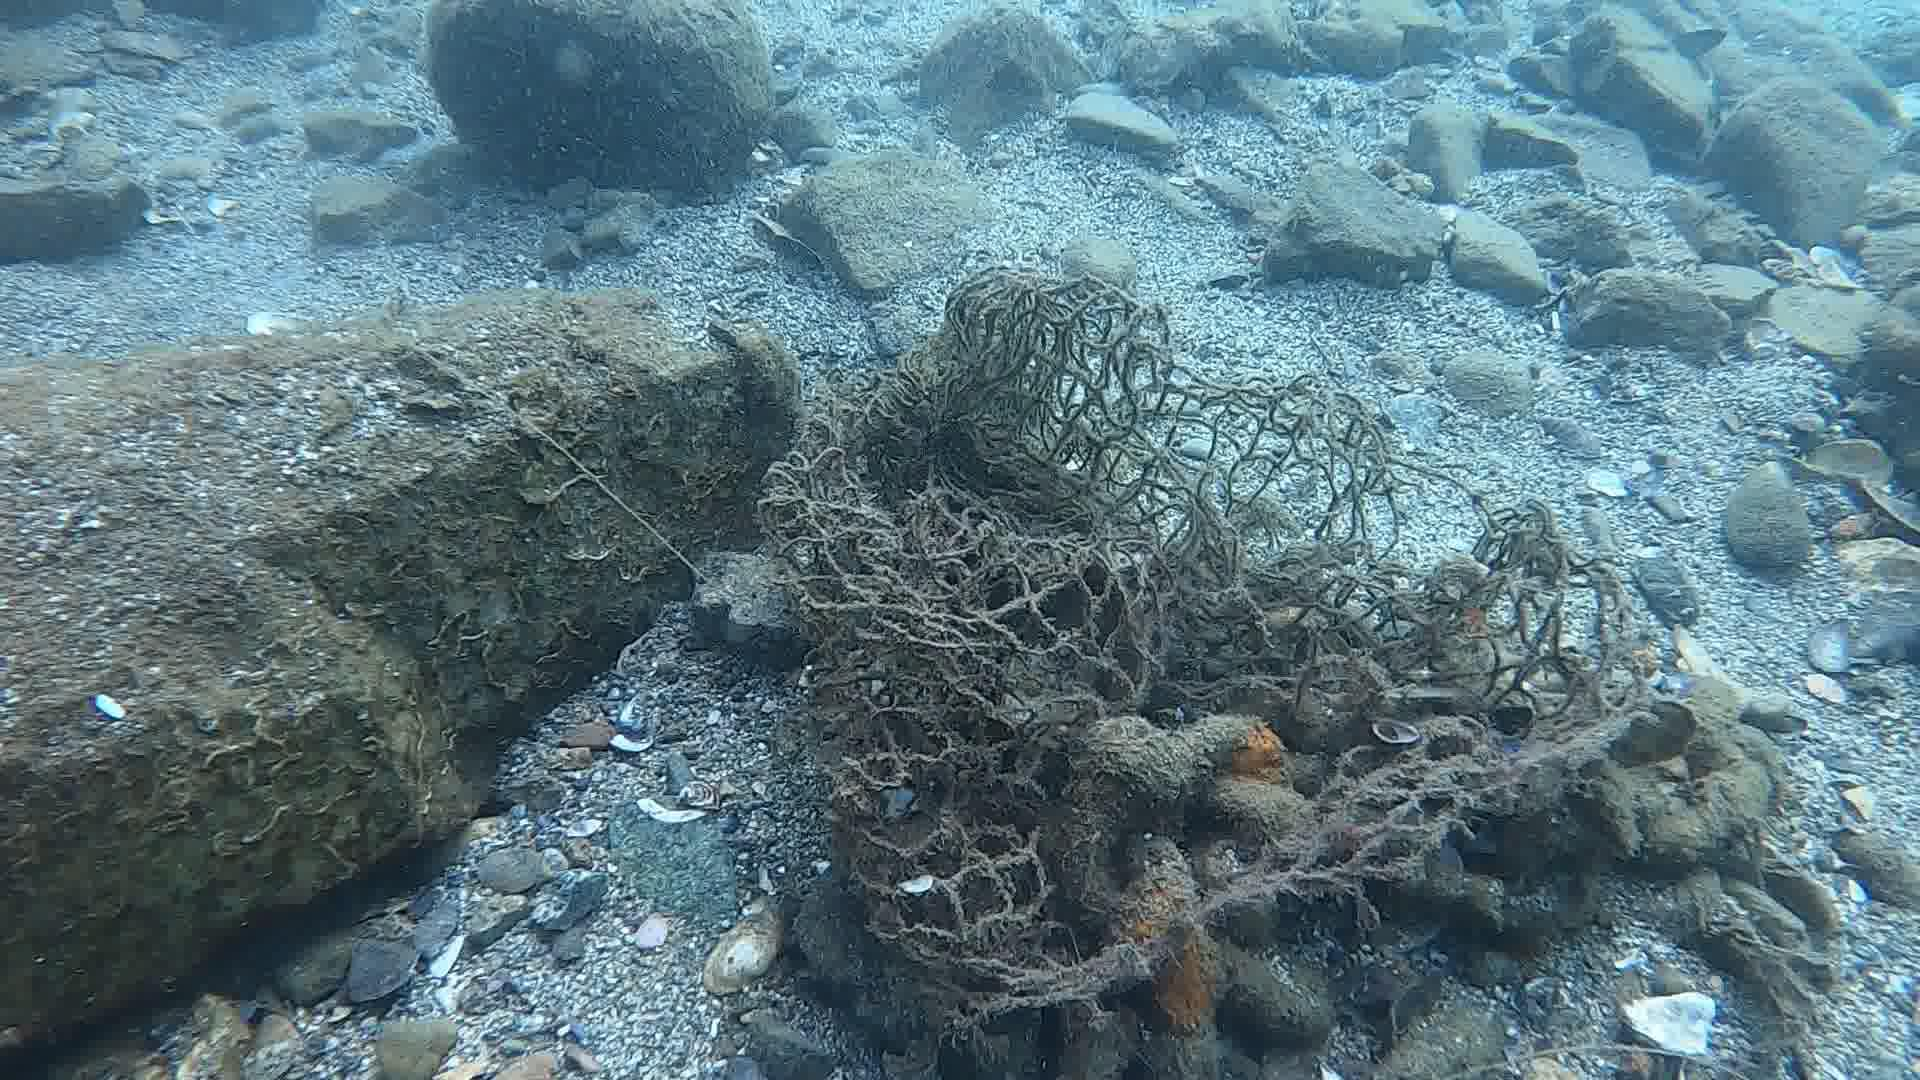fish net: (757, 260, 1655, 1007)
